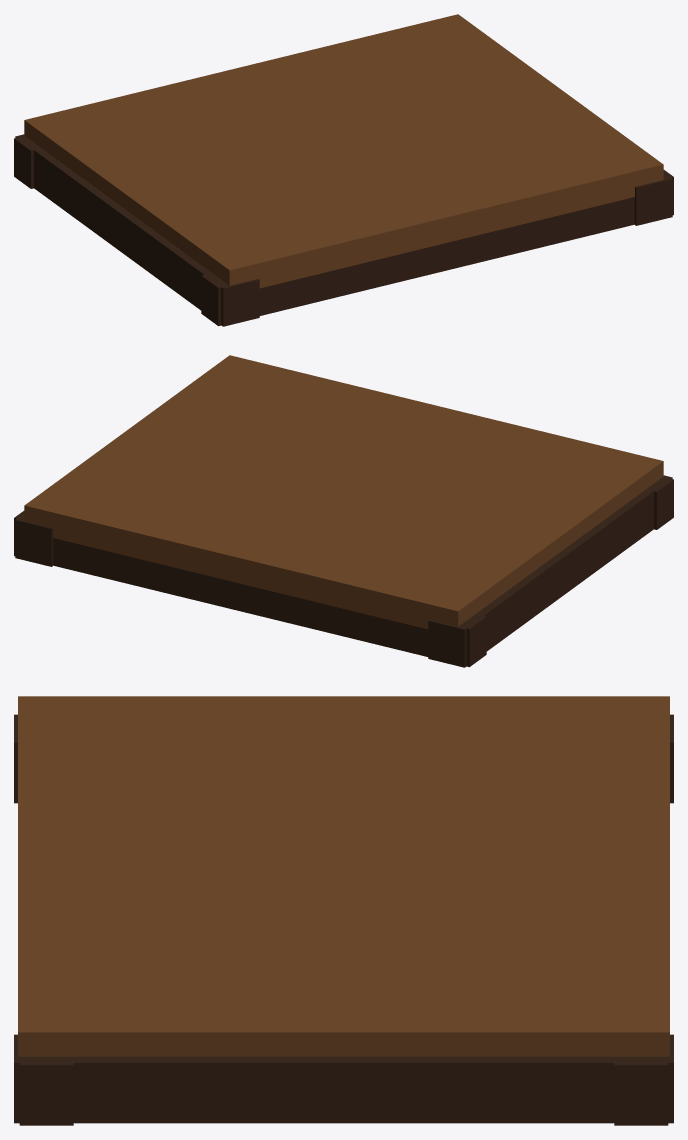
Rendered from wall_solid.obj.
3 views of the same model, one above another, from view 1: azimuth 30°, elevation 25°; view 2: azimuth 150°, elevation 25°; view 3: azimuth 270°, elevation 25° (orthographic). The views are drawn at different scales.
Visible parts, largest first — view 1: WallCore, TopBeam, LeftPost, RightPost, BottomBeam; view 2: WallCore, BottomBeam, LeftPost, RightPost, TopBeam; view 3: WallCore, RightPost, BottomBeam, TopBeam, LeftPost.
Part boxes in pixels (x1,y1,x2,y2): WallCore: (24, 14, 663, 288); TopBeam: (201, 170, 673, 326); LeftPost: (15, 134, 259, 326); RightPost: (634, 174, 672, 225); BottomBeam: (14, 136, 41, 188); WallCore: (24, 355, 663, 629); BottomBeam: (14, 511, 486, 667); LeftPost: (428, 475, 672, 667); RightPost: (15, 518, 53, 566); TopBeam: (654, 477, 673, 529); WallCore: (18, 696, 669, 1056); RightPost: (14, 1034, 673, 1123); BottomBeam: (614, 1056, 668, 1125); TopBeam: (19, 1056, 73, 1125); LeftPost: (14, 714, 673, 803).
Size of the model in its own units: 5.25 by 0.68 by 4.15.
